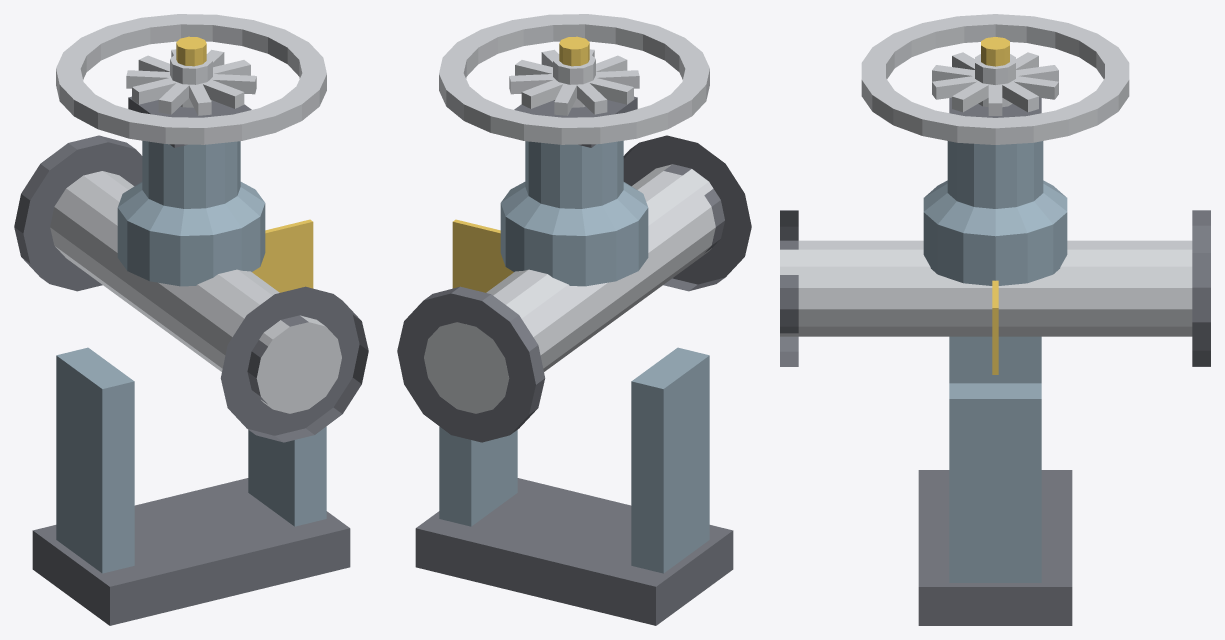
Rendered from animated-mechanisms-kit-valve-wheel-ac431ec5__24634.glb.
3 views of the same model, side by side, from view 1: azimuth 30°, elevation 25°; view 2: azimuth 150°, elevation 25°; view 3: azimuth 270°, elevation 25° (orthographic).
Visible parts, largest first — view 1: valve-wheel, handwheel/steel, handwheel/accent; view 2: valve-wheel, handwheel/steel, handwheel/accent; view 3: valve-wheel, handwheel/steel, handwheel/accent.
Part boxes in pixels (<box>): valve-wheel: <box>14,96,368,625</box>; handwheel/steel: <box>56,14,326,144</box>; handwheel/accent: <box>176,36,206,66</box>; valve-wheel: <box>397,96,751,625</box>; handwheel/steel: <box>439,14,709,144</box>; handwheel/accent: <box>559,36,589,66</box>; valve-wheel: <box>780,97,1210,625</box>; handwheel/steel: <box>861,14,1129,144</box>; handwheel/accent: <box>981,37,1009,66</box>.
Size of the model in its own units: 0.9 by 1.88 by 1.4.
